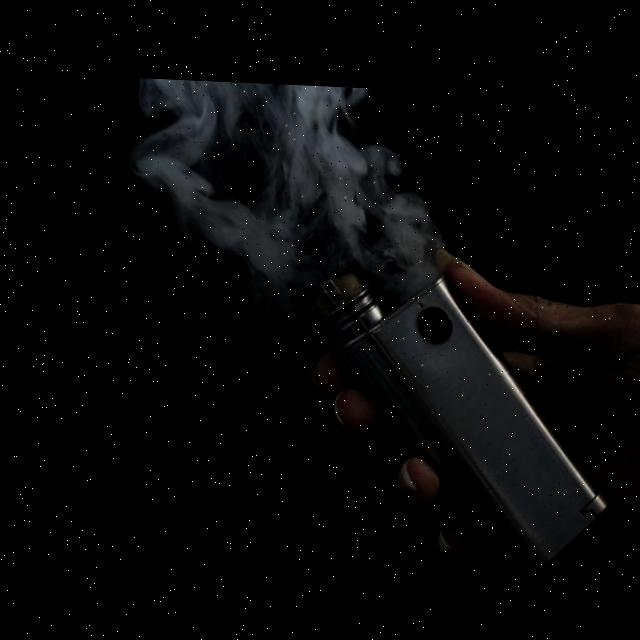vape: (301, 264, 612, 585)
